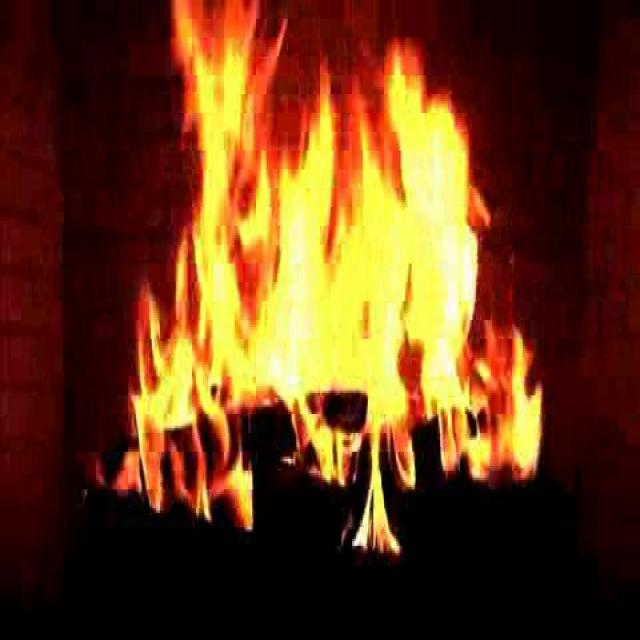fire: (104, 15, 523, 532)
